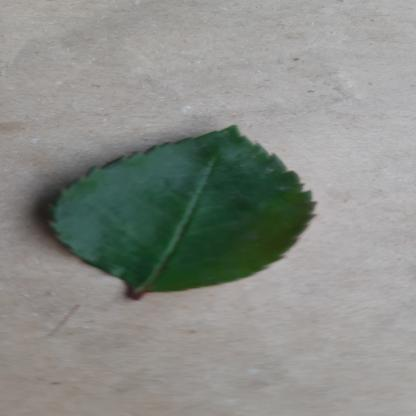normal: (46, 125, 328, 292)
